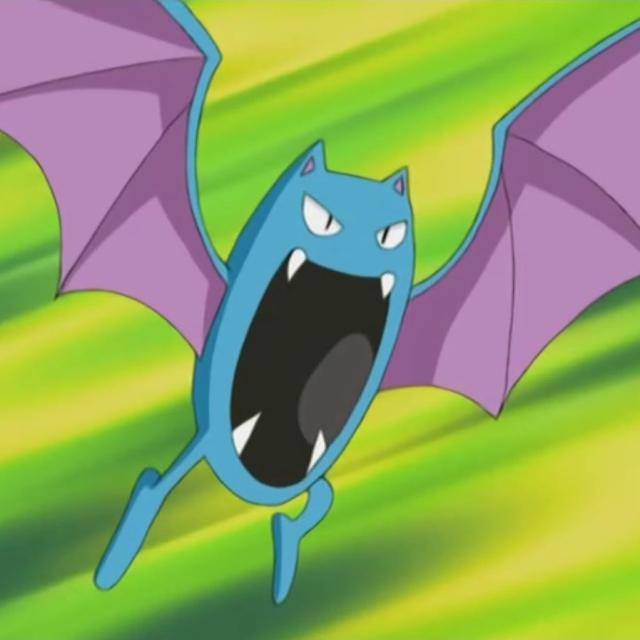Golbat: (127, 115, 515, 575)
